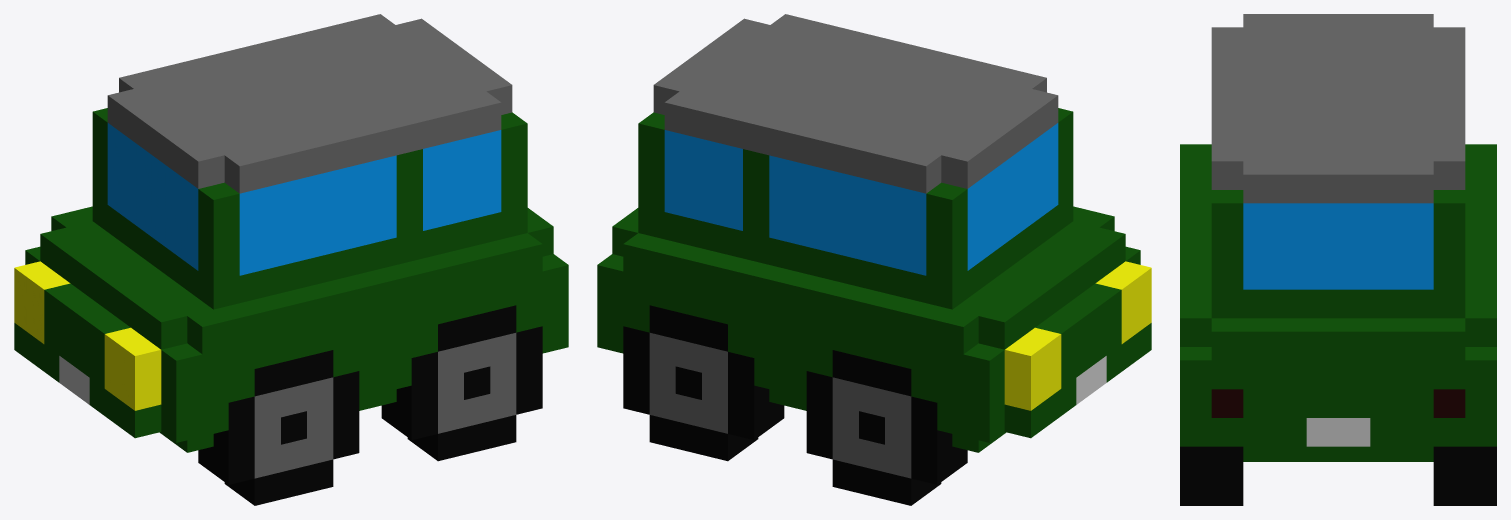
The model's file is car2.obj.
3 renders of one model, left to right at view 1: azimuth 30°, elevation 25°; view 2: azimuth 150°, elevation 25°; view 3: azimuth 270°, elevation 25°, orthographic. The views are drawn at different scales.
Visible parts, largest first — view 1: Cube.394_Cube.8849; view 2: Cube.394_Cube.8849; view 3: Cube.394_Cube.8849.
Part boxes in pixels (<box>): Cube.394_Cube.8849: <box>14,14,568,505</box>; Cube.394_Cube.8849: <box>597,14,1151,505</box>; Cube.394_Cube.8849: <box>1180,14,1496,505</box>.
Bounding box in the file's own units: 1 × 0.75 × 0.625.
